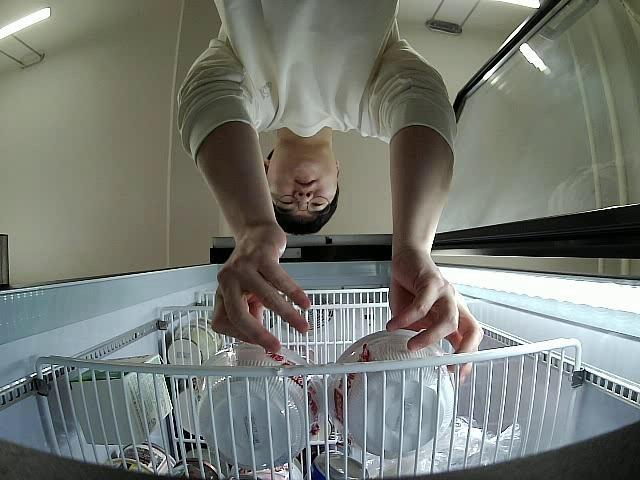09_yukGaeJang: (325, 328, 456, 460), (192, 342, 328, 466)
